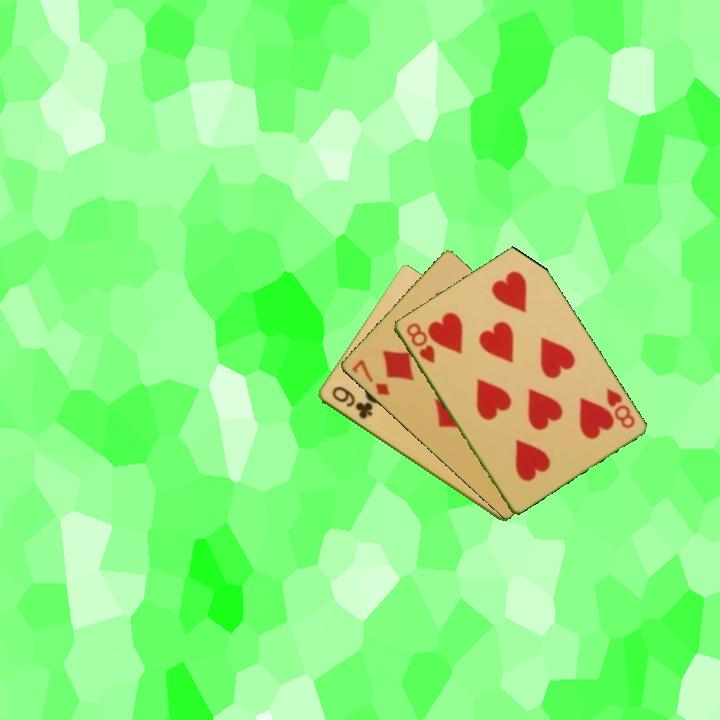7d: (348, 356, 392, 399)
8h: (402, 319, 438, 366), (602, 385, 638, 432)
9c: (328, 383, 375, 422)
